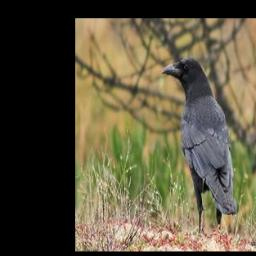Crow: (163, 56, 240, 237)
